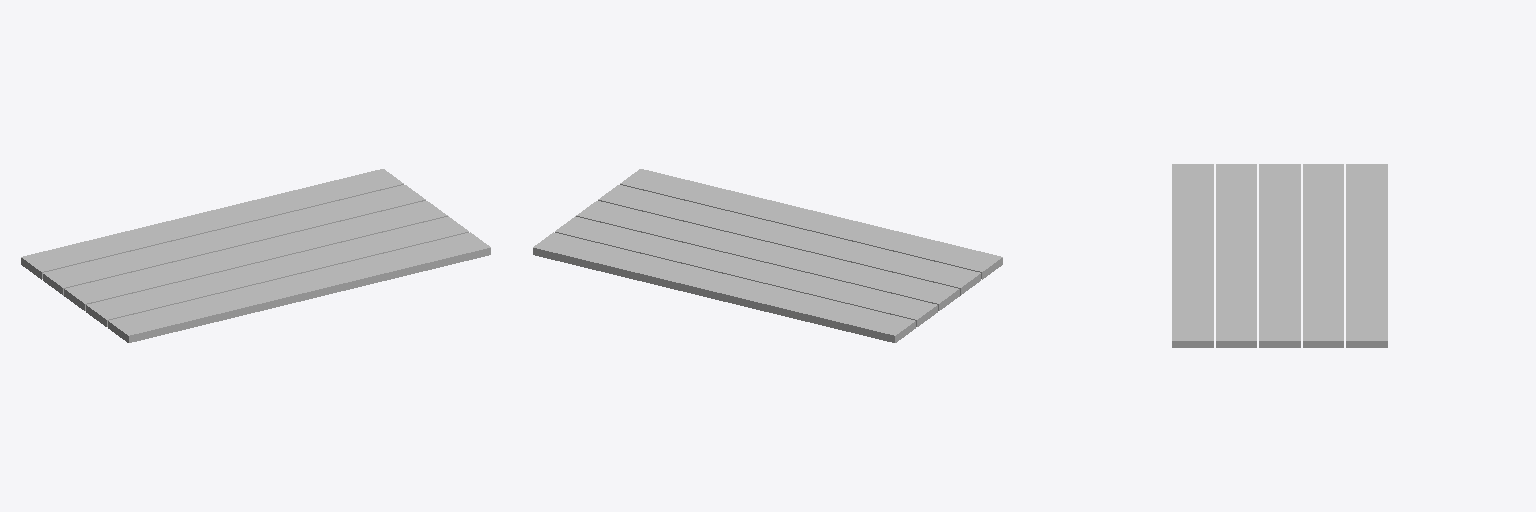
Rendered from table.obj.
3 views of the same model, side by side, from view 1: azimuth 30°, elevation 25°; view 2: azimuth 150°, elevation 25°; view 3: azimuth 270°, elevation 25° (orthographic).
Parts seen in each view (by area): view 1: default; view 2: default; view 3: default.
Part boxes in pixels (x1,y1,x2,y2): default: (21,169,490,342); default: (533,169,1002,342); default: (1172,164,1387,347).
Bounding box in the file's own units: 50.5 × 1 × 26.